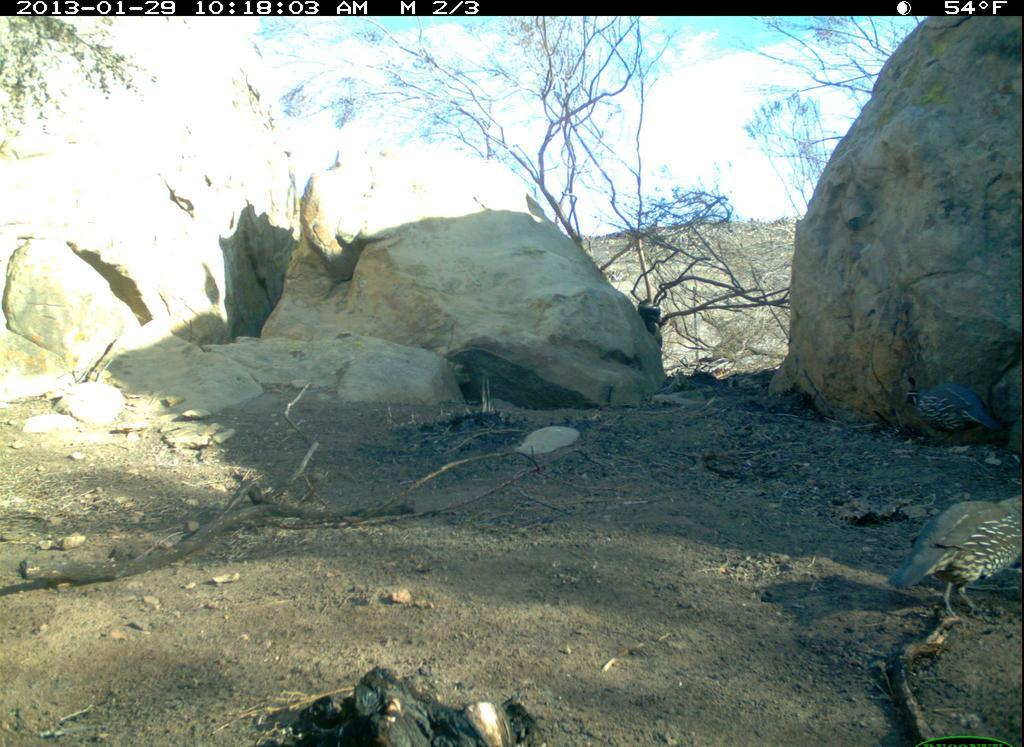bird: (889, 477, 1023, 625), (902, 368, 1013, 454)
